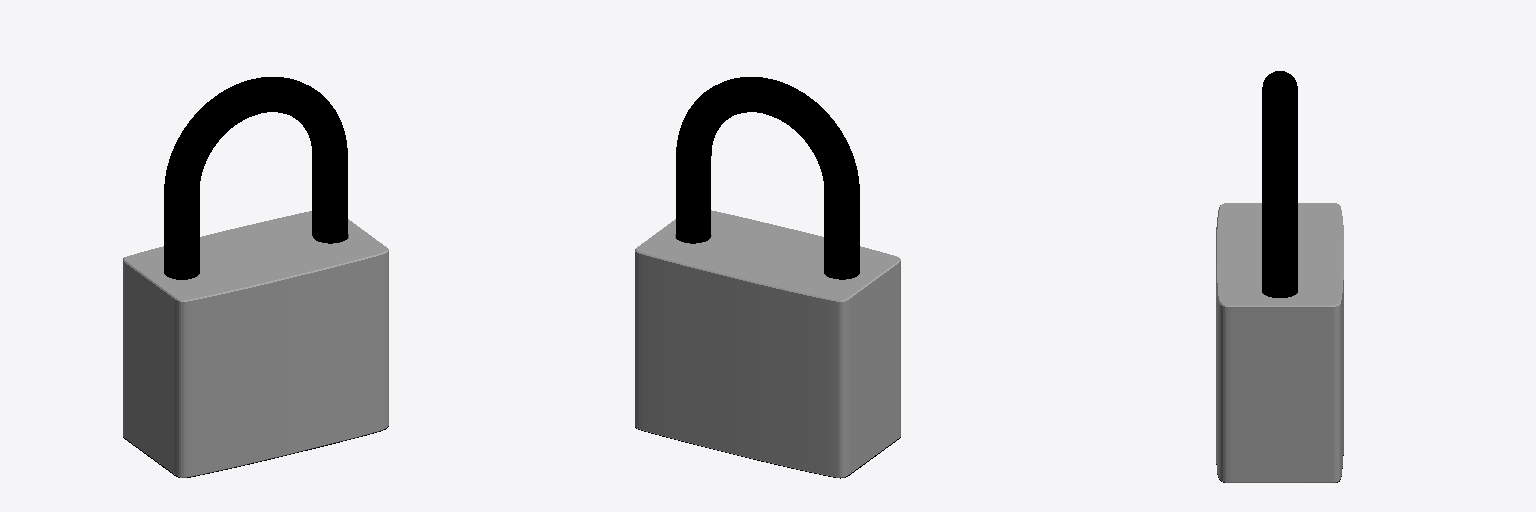
Rendered from padlock.obj.
The picture shows the model from 3 angles: view 1: azimuth 30°, elevation 25°; view 2: azimuth 150°, elevation 25°; view 3: azimuth 270°, elevation 25°; orthographic projection.
Parts seen in each view (by area): view 1: Padlock; view 2: Padlock; view 3: Padlock.
Boxes of the visible parts, x1,y1,x2,y2 form: Padlock: [123, 77, 388, 477]; Padlock: [635, 77, 900, 478]; Padlock: [1216, 71, 1343, 482].
Size of the model in its own units: 0.4485 by 0.7097 by 0.2358.